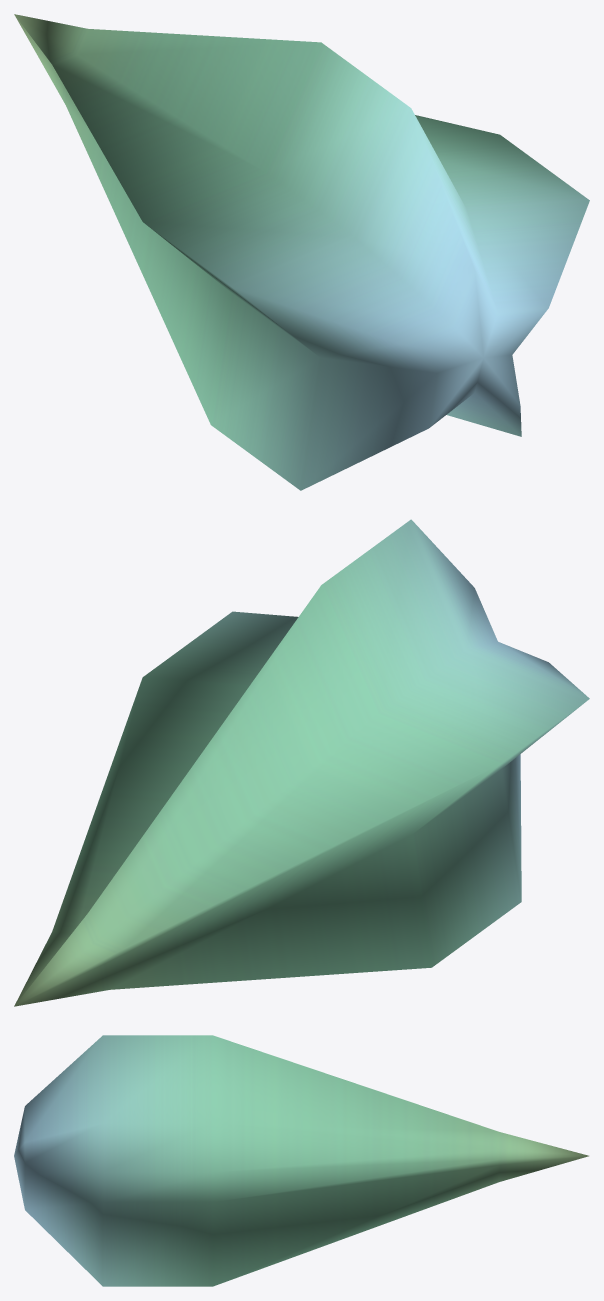
Rendered from Prop_StarDrop_Single.fbx.
The picture shows the model from 3 angles, top to bottom: view 1: azimuth 30°, elevation 25°; view 2: azimuth 150°, elevation 25°; view 3: azimuth 270°, elevation 25°; orthographic projection. The views are drawn at different scales.
Visible parts, largest first — view 1: StarDrop_Mesh001; view 2: StarDrop_Mesh001; view 3: StarDrop_Mesh001.
Part boxes in pixels (left/top/right/bottom): StarDrop_Mesh001: left=14, top=14, right=589, bottom=490; StarDrop_Mesh001: left=14, top=519, right=589, bottom=1006; StarDrop_Mesh001: left=14, top=1035, right=588, bottom=1286.
Size of the model in its own units: 1.76 by 1.67 by 4.
